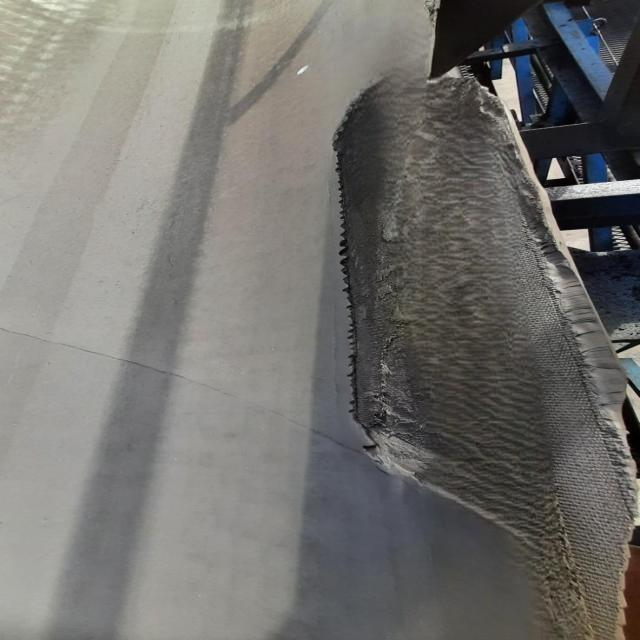Tear: (327, 63, 640, 639)
